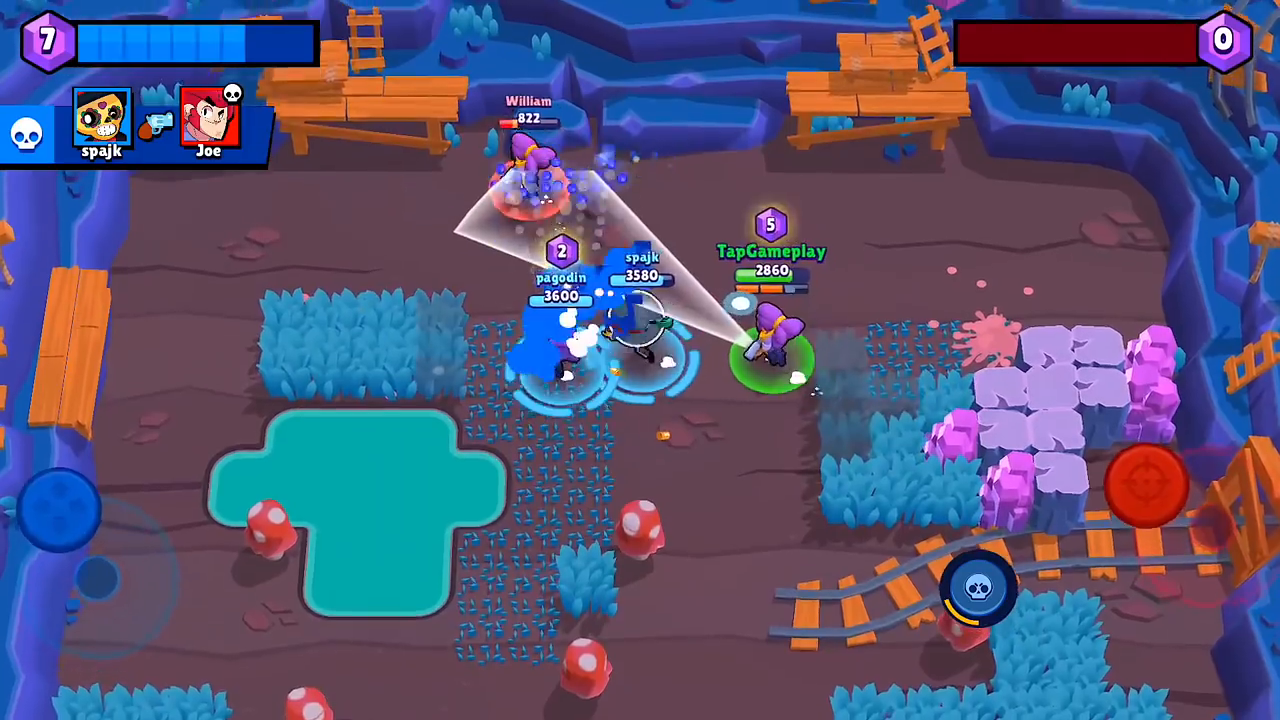move_stick: (19, 469, 97, 534)
red: (485, 113, 579, 221)
